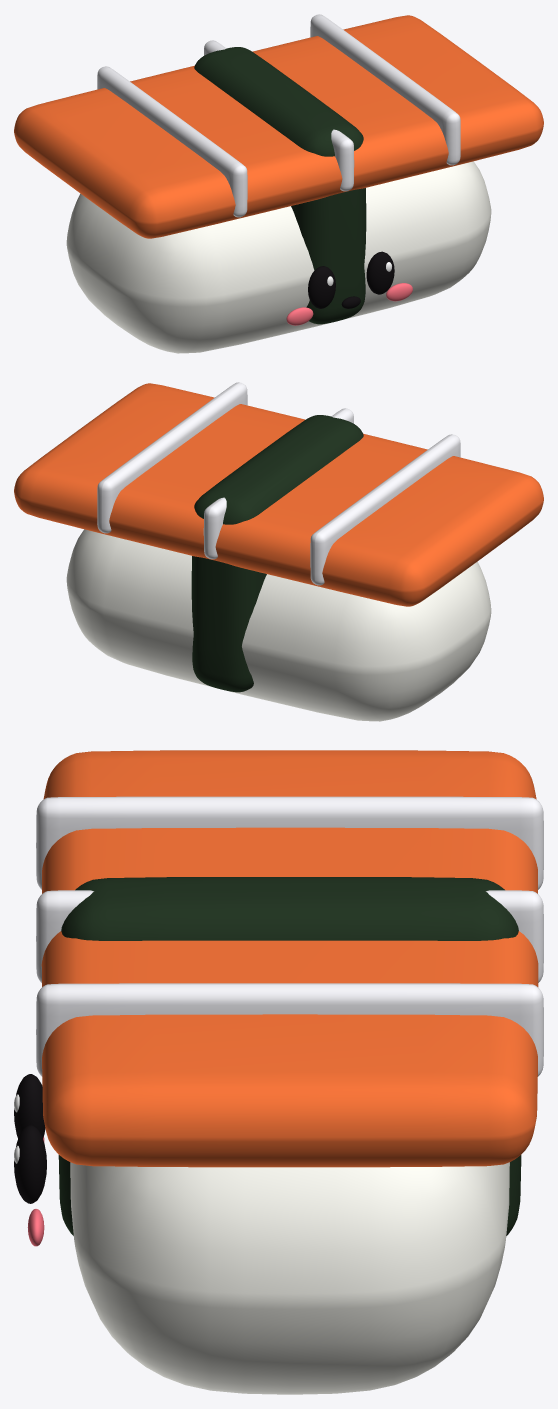
The model's file is Sushi.glb.
The picture shows the model from 3 angles, top to bottom: view 1: azimuth 30°, elevation 25°; view 2: azimuth 150°, elevation 25°; view 3: azimuth 270°, elevation 25°; orthographic projection. The views are drawn at different scales.
Parts seen in each view (by area): view 1: Cube.001, Cube, Cube.005, Cube.002, Cube.004, Cube.003, Sphere.003, Sphere; view 2: Cube.001, Cube, Cube.005, Cube.002, Cube.004, Cube.003; view 3: Cube.001, Cube, Cube.005, Cube.004, Cube.002, Cube.003, Sphere.003, Sphere.
Part boxes in pixels (box(x1,y1,x2,y2)): Cube.001: box(14, 15, 543, 238); Cube: box(66, 161, 491, 353); Cube.005: box(194, 47, 366, 324); Cube.002: box(97, 66, 247, 217); Cube.004: box(310, 14, 460, 165); Cube.003: box(204, 40, 354, 191); Sphere.003: box(366, 251, 394, 294); Sphere: box(308, 266, 335, 308); Cube.001: box(14, 383, 543, 606); Cube: box(66, 529, 491, 721); Cube.005: box(191, 415, 363, 692); Cube.002: box(310, 434, 460, 585); Cube.004: box(97, 382, 247, 533); Cube.003: box(203, 408, 353, 559); Cube.001: box(41, 750, 538, 1167); Cube: box(70, 1162, 509, 1394); Cube.005: box(58, 877, 521, 1235); Cube.004: box(36, 983, 543, 1076); Cube.002: box(36, 796, 543, 889); Cube.003: box(36, 890, 543, 982); Sphere.003: box(14, 1125, 46, 1203); Sphere: box(14, 1074, 45, 1138).
Bounding box in the file's own units: 1.55 × 0.7984 × 0.9599.
